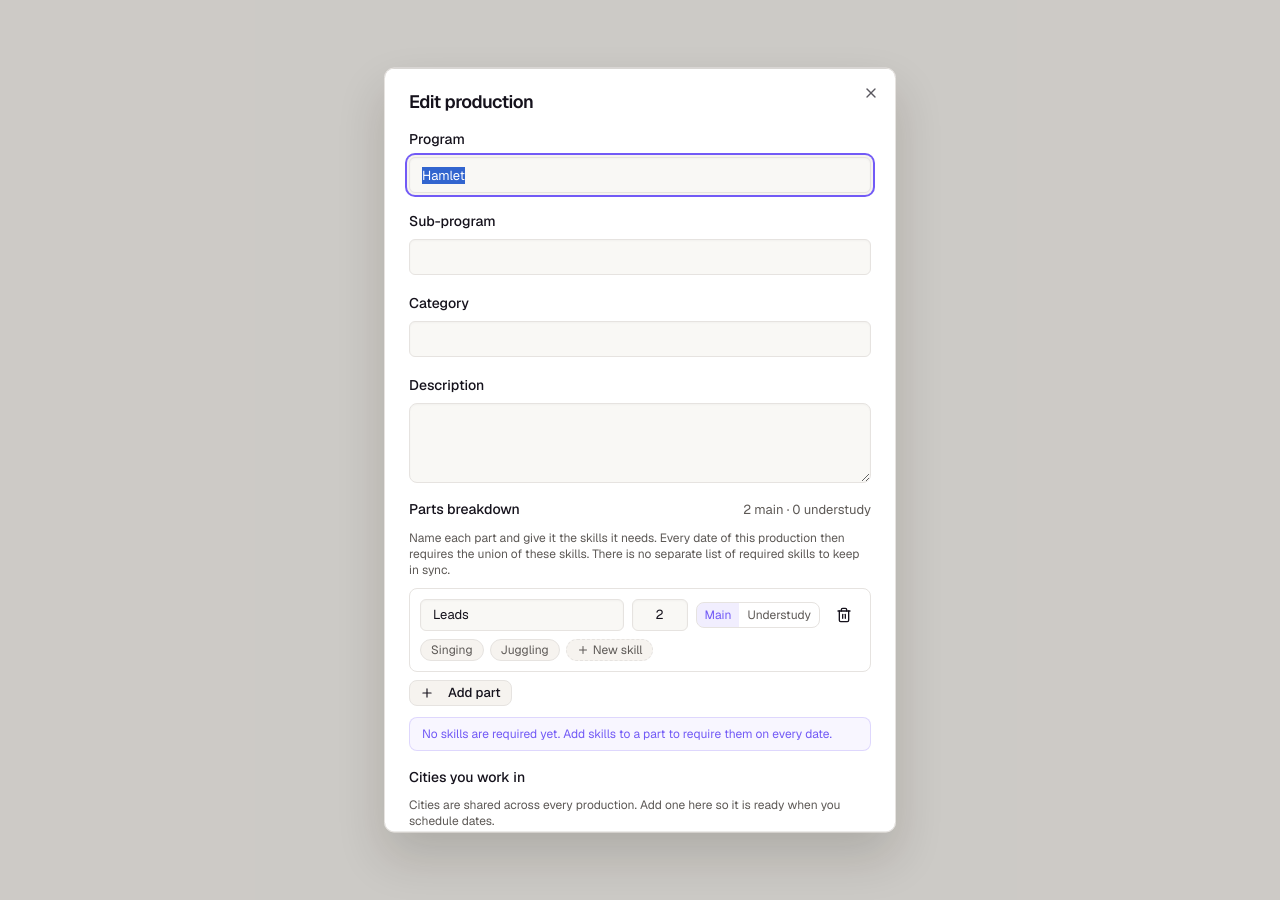
ShowFormDialog › edit: a slot added but not saved does not survive close/reopen of the same show
Later steps or results of the test are not shown.
Expected: the field showing "Leads" is shown, [420, 598, 624, 630]
Click the button "Add part" at (460, 692), box [409, 679, 512, 705]
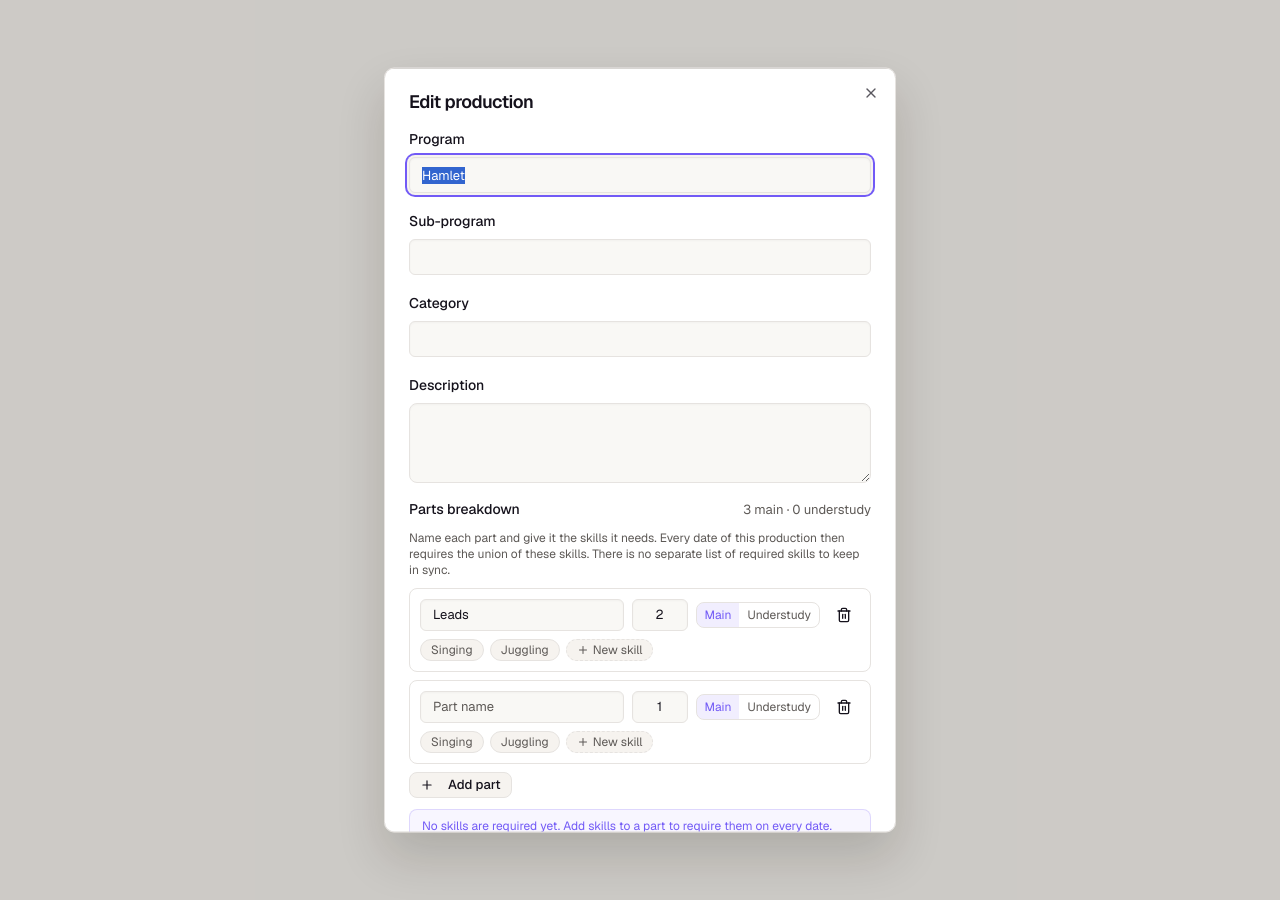
Expected: the element named "Part 2" is shown, [409, 679, 871, 763]
